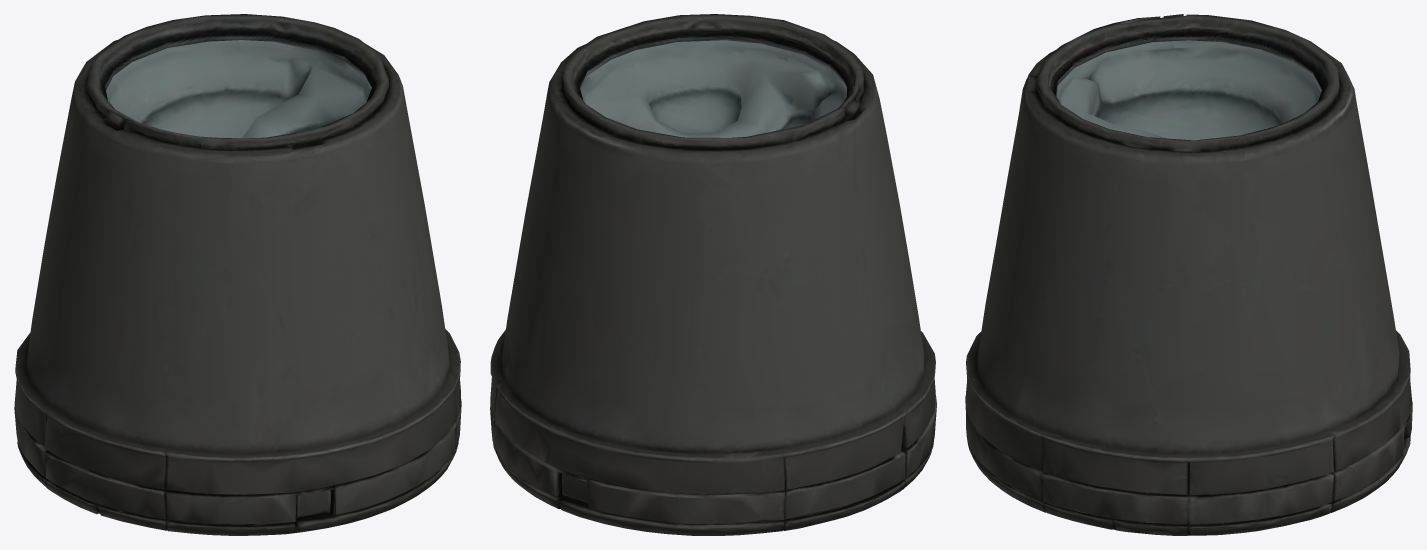
File: loupe.glb
The picture shows the model from 3 angles, left to right: view 1: azimuth 30°, elevation 25°; view 2: azimuth 150°, elevation 25°; view 3: azimuth 270°, elevation 25°; orthographic projection.
Parts seen in each view (by area): view 1: tripo_node_87752f8b-a9d2-4d45-9463-a308d788d1b1; view 2: tripo_node_87752f8b-a9d2-4d45-9463-a308d788d1b1; view 3: tripo_node_87752f8b-a9d2-4d45-9463-a308d788d1b1.
Part boxes in pixels (bbox=[...]): tripo_node_87752f8b-a9d2-4d45-9463-a308d788d1b1: bbox=[14, 14, 461, 535]; tripo_node_87752f8b-a9d2-4d45-9463-a308d788d1b1: bbox=[490, 14, 936, 535]; tripo_node_87752f8b-a9d2-4d45-9463-a308d788d1b1: bbox=[965, 14, 1412, 535].
Bounding box in the file's own units: 0.1645 × 0.15 × 0.1645.
Materials: 1 (1 with a texture image).
